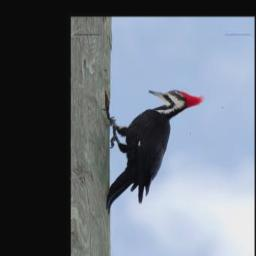Woodpecker: (102, 88, 205, 213)
